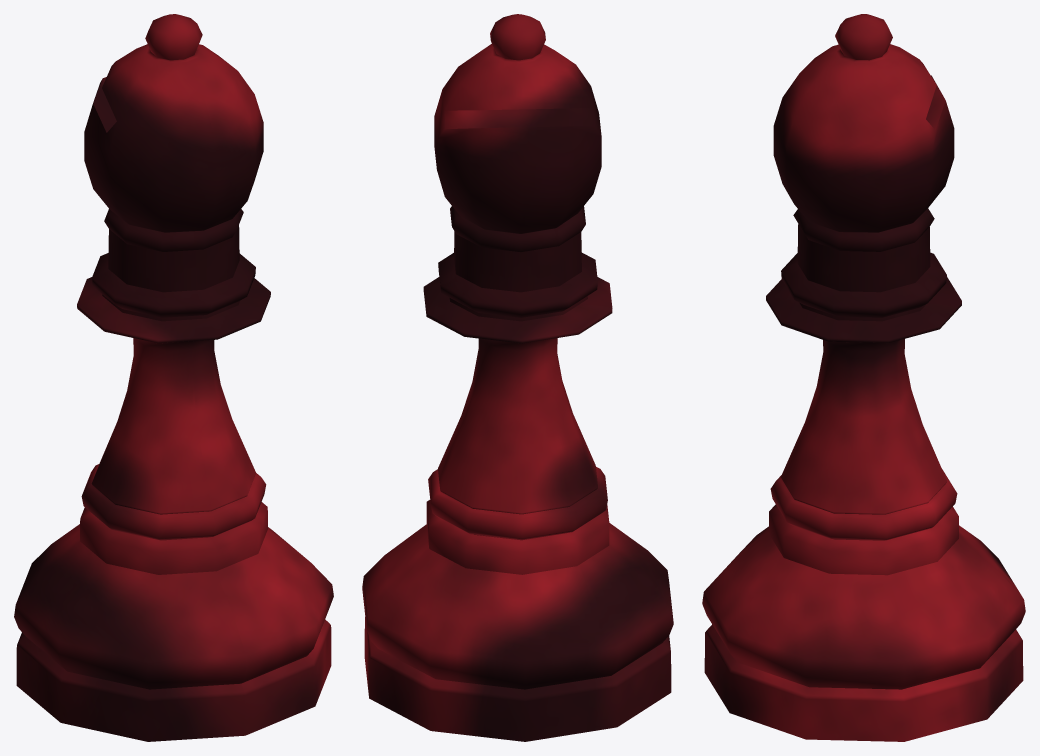
The model's file is item-2-3.glb.
3 renders of one model, left to right at view 1: azimuth 30°, elevation 25°; view 2: azimuth 150°, elevation 25°; view 3: azimuth 270°, elevation 25°, orthographic.
Parts seen in each view (by area): view 1: BlackBishop; view 2: BlackBishop; view 3: BlackBishop.
Boxes of the visible parts, x1=… form: BlackBishop: x1=14, y1=14, x2=333, y2=741; BlackBishop: x1=362, y1=14, x2=673, y2=741; BlackBishop: x1=702, y1=14, x2=1025, y2=741.
Bounding box in the file's own units: 0.0928 × 0.2155 × 0.0958.
Materials: 1 (1 with a texture image).
